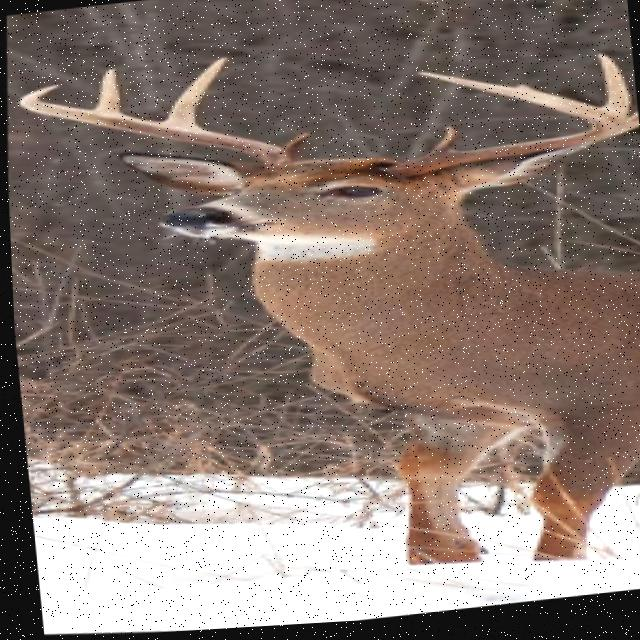L-F: (379, 76, 638, 184)
L-G1: (424, 132, 456, 160)
R-F: (17, 86, 292, 166)
R-G1: (275, 136, 310, 158)
R-G2: (161, 59, 228, 130)
R-G3: (92, 69, 119, 114)
